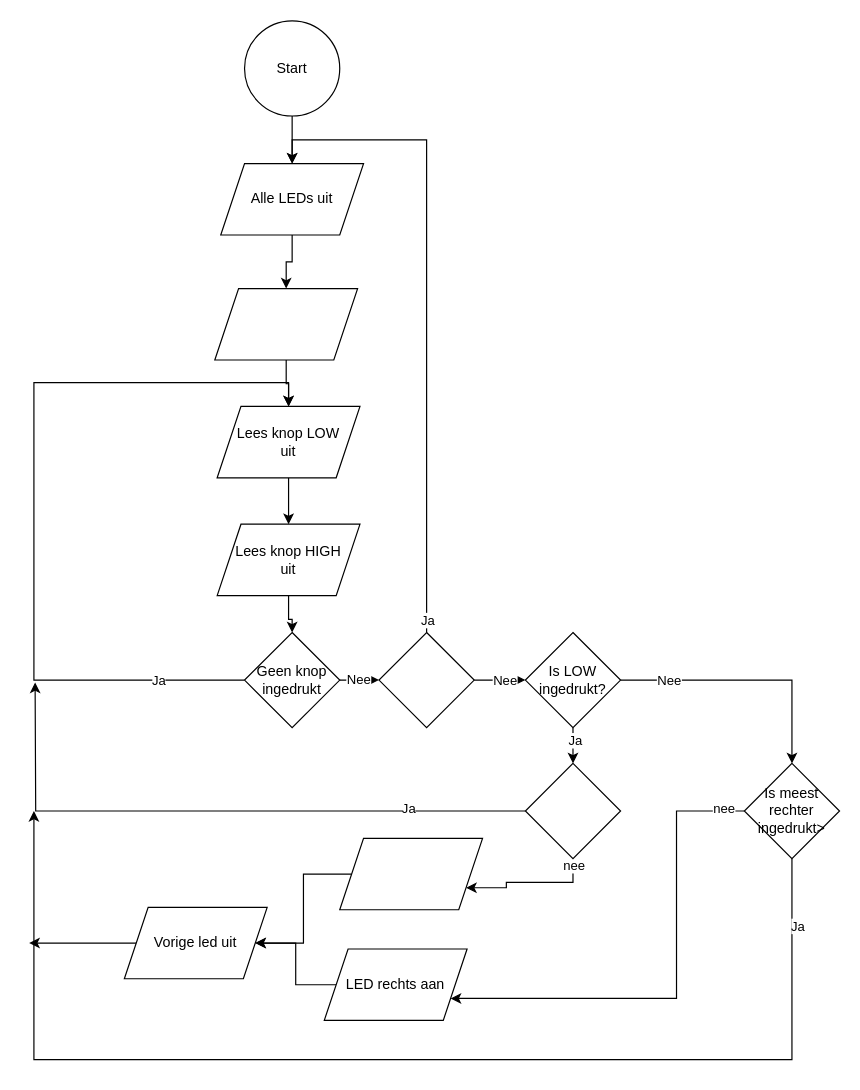
The diagram is 860 pixels wide and 1090 high, and some of its shapes have lost their labels. Each missing label, with the centre of its shape:
Beide knoppen ingedrukt?: (426,679)
Is meest linker aan?: (572,810)
LED D4 AAN: (286,323)
LED links aan: (411,873)
